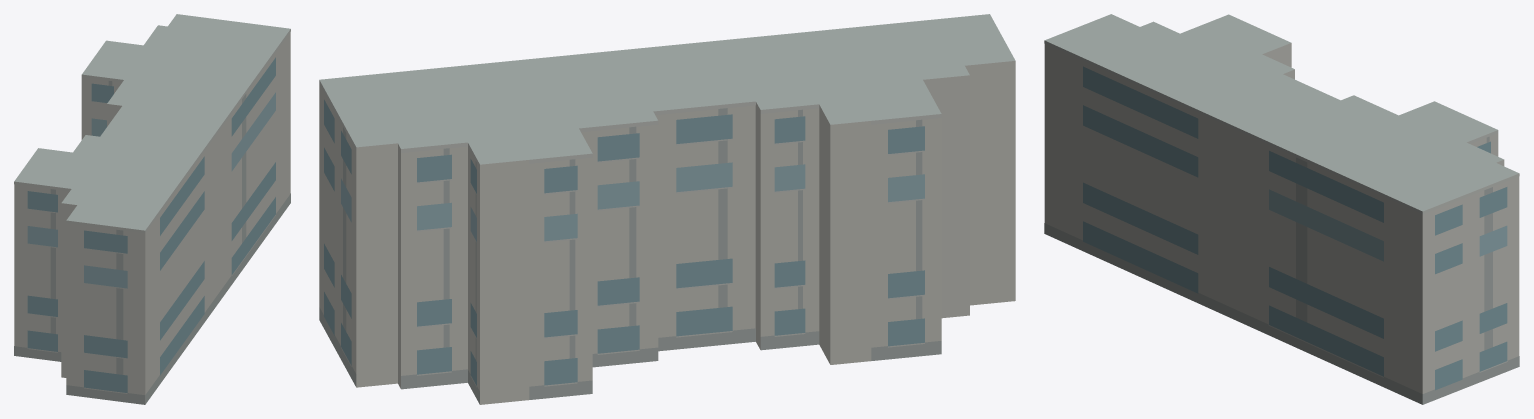
File: residential-3a20fa5e-e247-44cb-af29-211e093f29a0.glb
The picture shows the model from 3 angles, left to right: view 1: azimuth 30°, elevation 25°; view 2: azimuth 150°, elevation 25°; view 3: azimuth 270°, elevation 25°; orthographic projection. The views are drawn at different scales.
Visible parts, largest first — view 1: residential-3a20fa5e-e247-44cb-af29-211e093f29a0.tmp; view 2: residential-3a20fa5e-e247-44cb-af29-211e093f29a0.tmp; view 3: residential-3a20fa5e-e247-44cb-af29-211e093f29a0.tmp.
Boxes of the visible parts, <box> form: residential-3a20fa5e-e247-44cb-af29-211e093f29a0.tmp: <box>14,14,290,404</box>; residential-3a20fa5e-e247-44cb-af29-211e093f29a0.tmp: <box>319,14,1015,404</box>; residential-3a20fa5e-e247-44cb-af29-211e093f29a0.tmp: <box>1044,14,1519,404</box>.
Size of the model in its own units: 33.41 by 15.25 by 33.95.
